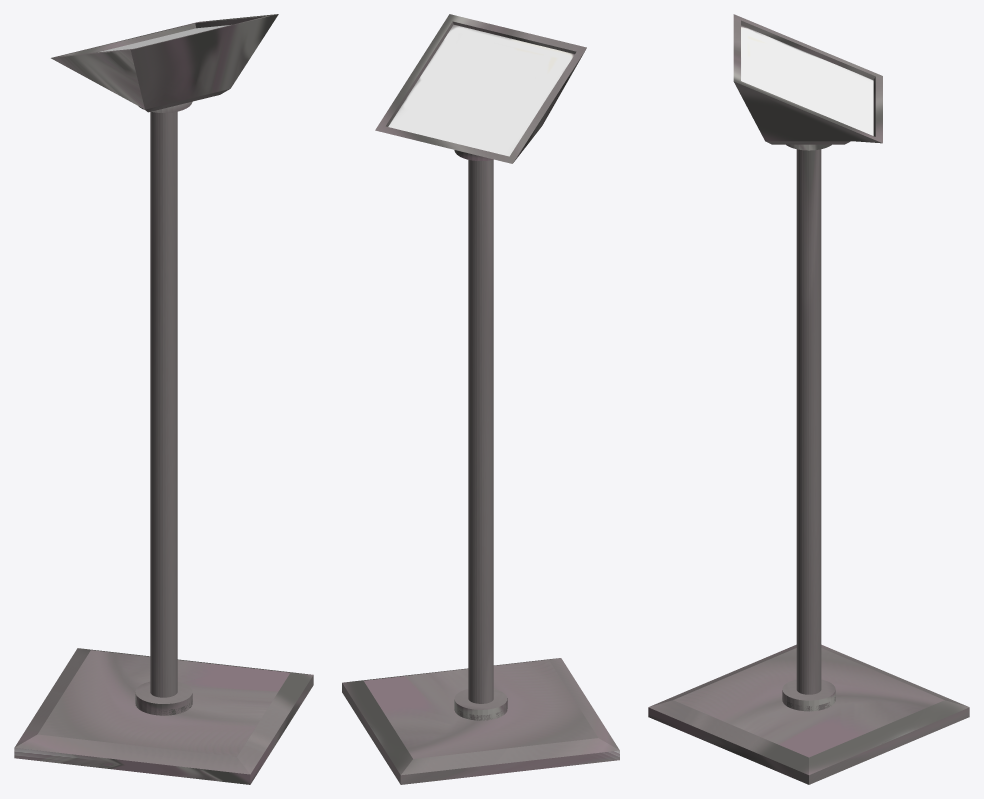
File: Console.fbx
3 renders of one model, left to right at view 1: azimuth 30°, elevation 25°; view 2: azimuth 150°, elevation 25°; view 3: azimuth 270°, elevation 25°, orthographic. The views are drawn at different scales.
Parts seen in each view (by area): view 1: Cube; view 2: Cube; view 3: Cube.
Part boxes in pixels (bbox=[...]): Cube: bbox=[14, 14, 313, 784]; Cube: bbox=[342, 14, 619, 784]; Cube: bbox=[648, 14, 969, 784].
Size of the model in its own units: 49.87 by 115 by 49.87.
1 material, 1 textured.
